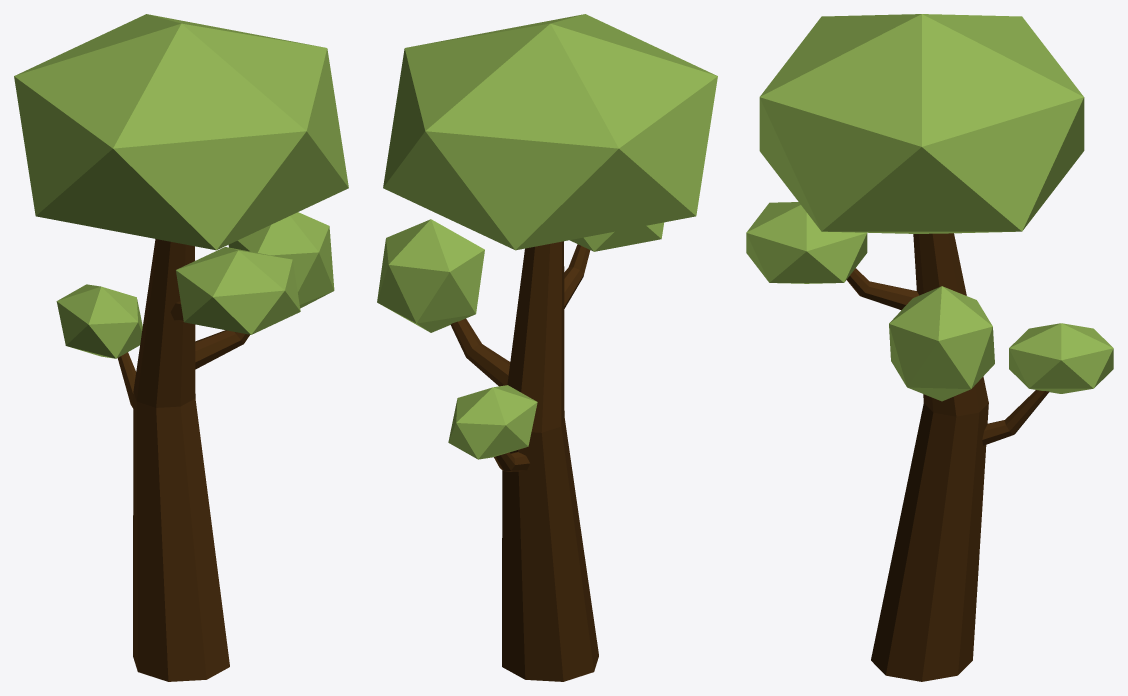
Rendered from tree004.fbx.
3 renders of one model, left to right at view 1: azimuth 30°, elevation 25°; view 2: azimuth 150°, elevation 25°; view 3: azimuth 270°, elevation 25°, orthographic.
Visible parts, largest first — view 1: Cylinder.002; view 2: Cylinder.002; view 3: Cylinder.002.
Part boxes in pixels (x1,y1,x2,y2): Cylinder.002: (14,14,348,681); Cylinder.002: (377,14,717,681); Cylinder.002: (746,14,1113,681).
Size of the model in its own units: 545 by 1099 by 566.
